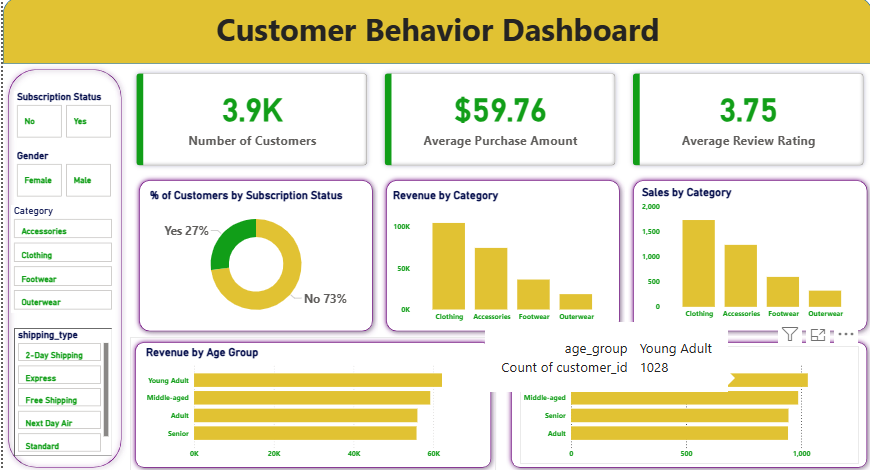

The dashboard page shown, as its layout file describes it:
{"tool":"powerbi","page":{"name":"Page 1","canvas":[1500,820],"ordinal":0},"visuals":[{"type":"cardVisual","fields":{"Data":["public customer.Number of Customers","public customer.Average Purchase Amount","public customer.Average Review Rating"]},"box":[213.3,115,1286.7,191.7],"z":0},{"type":"shape","box":[0,0,1499.4,115.3],"z":1000},{"type":"textbox","box":[0,12.4,1499.4,102.9],"z":2000},{"type":"shape","box":[218.3,585.6,631.7,234.2],"z":2500,"group":"g1"},{"type":"shape","box":[225.4,307,420.5,278.6],"z":3000},{"type":"donutChart","title":"% of Customers by Subscription Status","fields":{"Category":["public customer.subscription_status"],"Y":["CountNonNull(public customer.customer_id)"]},"box":[248.4,331.8,376.2,237.8],"z":4000},{"type":"shape","box":[1078.3,306.7,421.7,278.3],"z":5000},{"type":"shape","box":[652.1,307,420.5,278.6],"z":6000},{"type":"clusteredColumnChart","title":"Revenue by Category","fields":{"Y":["Sum(public customer.purchase_amount)"],"Category":["public customer.category"]},"box":[667.2,331.8,385.1,237.8],"z":7000},{"type":"clusteredColumnChart","title":"Sales by Category","fields":{"Y":["CountNonNull(public customer.customer_id)"],"Category":["public customer.category"]},"box":[1096.7,326.7,385,238.3],"z":8000},{"type":"shape","box":[0,115,213.3,705],"z":9000},{"type":"advancedSlicerVisual","fields":{"Values":["public customer.subscription_status"]},"box":[19.5,161.5,173.9,85.2],"z":10000},{"type":"advancedSlicerVisual","fields":{"Values":["public customer.gender"]},"box":[19.5,264.4,173.9,85.2],"z":11000},{"type":"advancedSlicerVisual","fields":{"Values":["public customer.category"]},"box":[14.2,358.4,179.2,186.3],"z":12000},{"type":"listSlicer","fields":{"Values":["public customer.shipping_type"]},"box":[18.3,570,168.3,220],"z":13000},{"type":"shape","box":[867.7,585.6,631.7,234.2],"z":14000},{"type":"clusteredBarChart","title":"Sales by Age Group","fields":{"Y":["CountNonNull(public customer.customer_id)"],"Category":["public customer.age_group"]},"box":[890.8,601.5,585.6,204.1],"z":15000},{"type":"group","id":"g1","title":"Group 1","box":[218.3,585.6,631.7,234.2],"z":16000},{"type":"advancedSlicerVisual","fields":{"Values":["public customer.shipping_type"]},"box":[20,571.7,166.7,218.3],"z":17000},{"type":"clusteredBarChart","title":"Revenue by Age Group","fields":{"Y":["Sum(public customer.purchase_amount)"],"Category":["public customer.age_group"]},"box":[241.4,601.6,585.6,204.1],"z":17500,"group":"g1"}]}

Visuals, with their boxes in screenshot pixels (x1, y1, x2, y2), scaled from the page's 1500x820 canvas onto the 870x470 screenshot:
cardVisual - public customer.Number of Customers x public customer.Average Purchase Amount: l=124, t=66, r=869, b=176
shape: l=0, t=0, r=869, b=66
textbox: l=0, t=7, r=869, b=66
shape: l=127, t=336, r=493, b=469
shape: l=131, t=176, r=375, b=336
"% of Customers by Subscription Status" donutChart: l=144, t=190, r=362, b=326
shape: l=625, t=176, r=869, b=335
shape: l=378, t=176, r=622, b=336
"Revenue by Category" clusteredColumnChart: l=387, t=190, r=610, b=326
"Sales by Category" clusteredColumnChart: l=636, t=187, r=859, b=324
shape: l=0, t=66, r=124, b=469
advancedSlicerVisual - public customer.subscription_status: l=11, t=93, r=112, b=141
advancedSlicerVisual - public customer.gender: l=11, t=152, r=112, b=200
advancedSlicerVisual - public customer.category: l=8, t=205, r=112, b=312
listSlicer - public customer.shipping_type: l=11, t=327, r=108, b=453
shape: l=503, t=336, r=869, b=469
"Sales by Age Group" clusteredBarChart: l=517, t=345, r=856, b=462
"Group 1" group: l=127, t=336, r=493, b=469
advancedSlicerVisual - public customer.shipping_type: l=12, t=328, r=108, b=453
"Revenue by Age Group" clusteredBarChart: l=140, t=345, r=480, b=462
